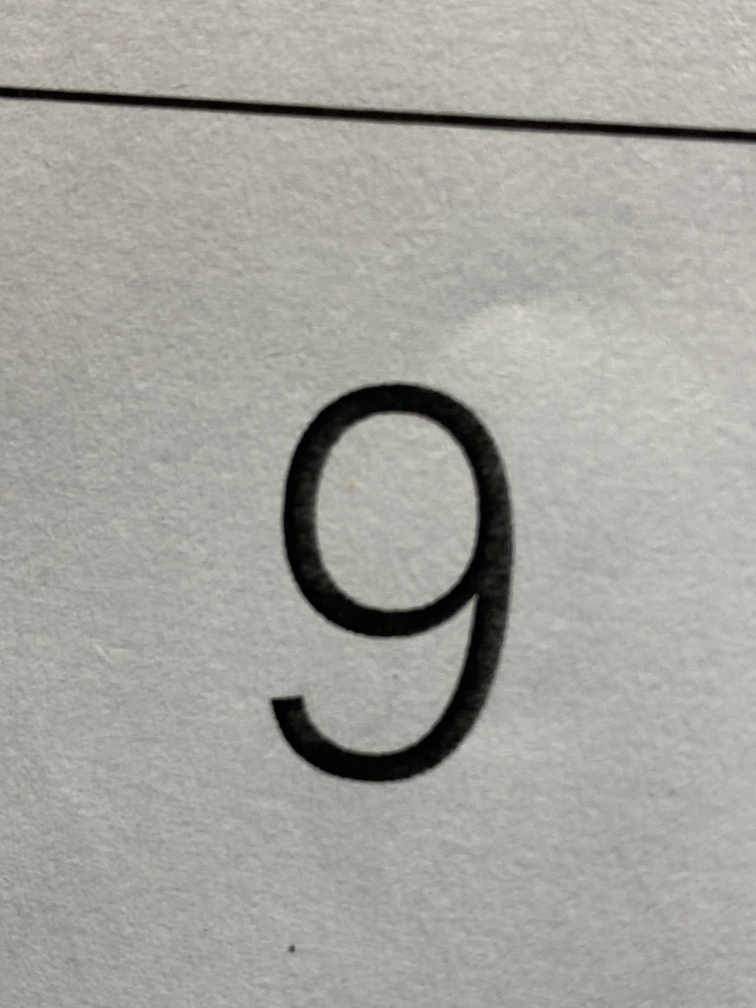nine: (200, 318, 582, 867)
